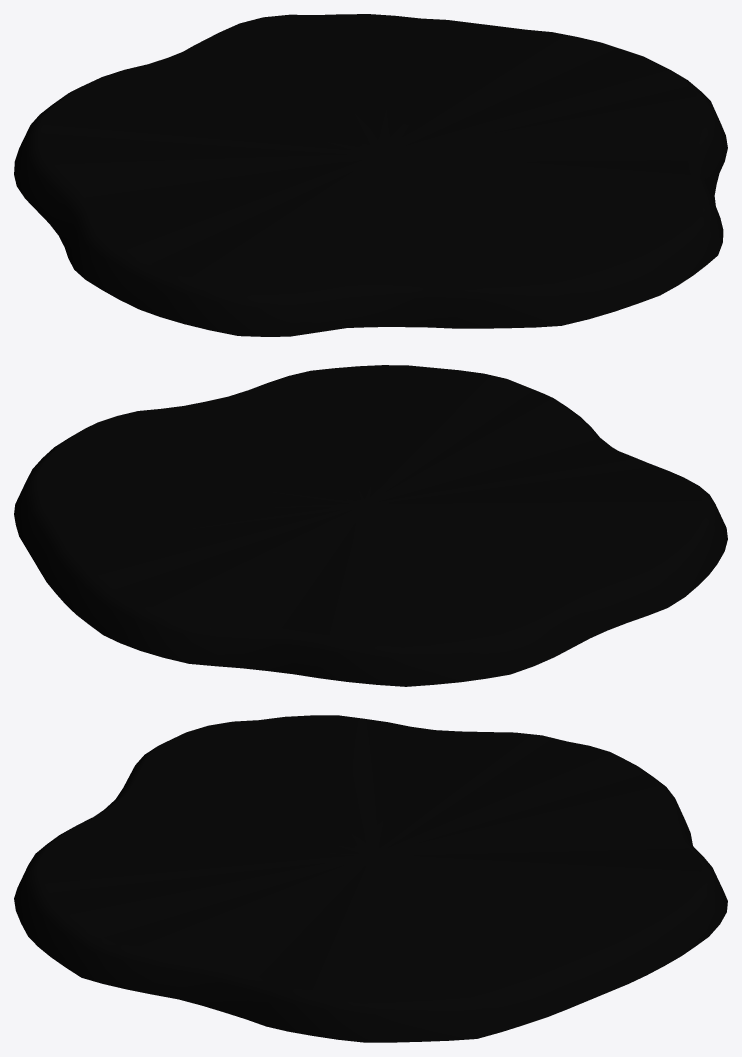
Rendered from oil.fbx.
3 renders of one model, top to bottom at view 1: azimuth 30°, elevation 25°; view 2: azimuth 150°, elevation 25°; view 3: azimuth 270°, elevation 25°, orthographic. The views are drawn at different scales.
Parts seen in each view (by area): view 1: Oil; view 2: Oil; view 3: Oil.
Part boxes in pixels (<box>): Oil: <box>14,14,727,336</box>; Oil: <box>14,365,727,686</box>; Oil: <box>14,715,727,1042</box>.
Size of the model in its own units: 156 by 9.13 by 155.
